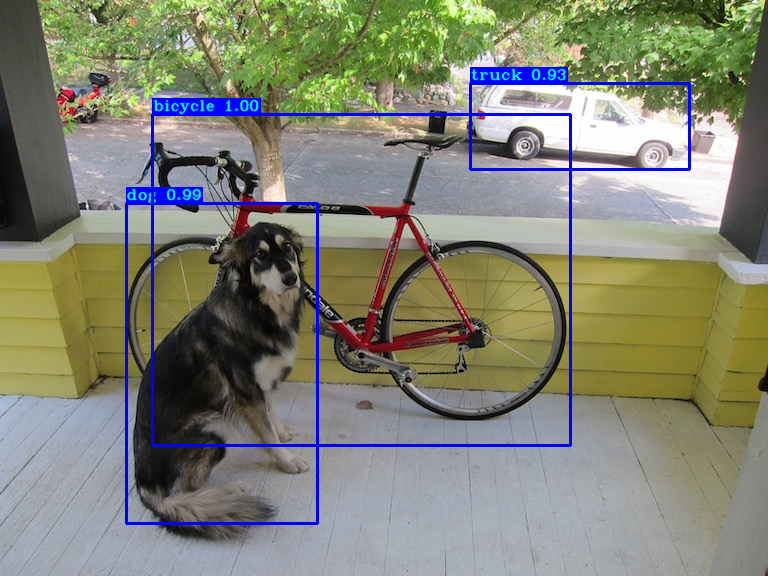bicycle: (152, 114, 570, 445)
dog: (126, 203, 317, 523)
truck: (470, 83, 689, 169)
